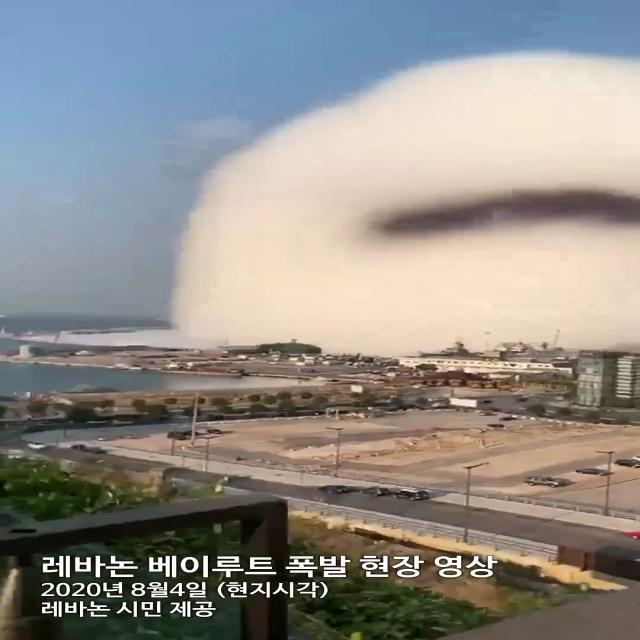explosion: (149, 50, 640, 356)
